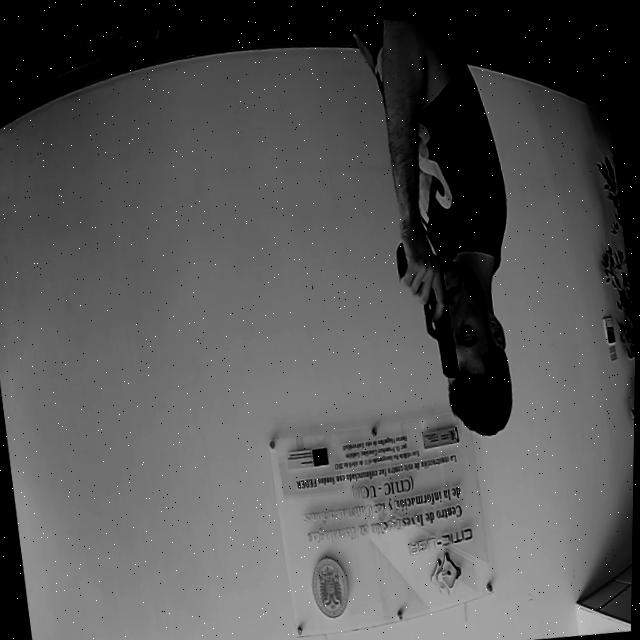pistol: (416, 245, 462, 378)
